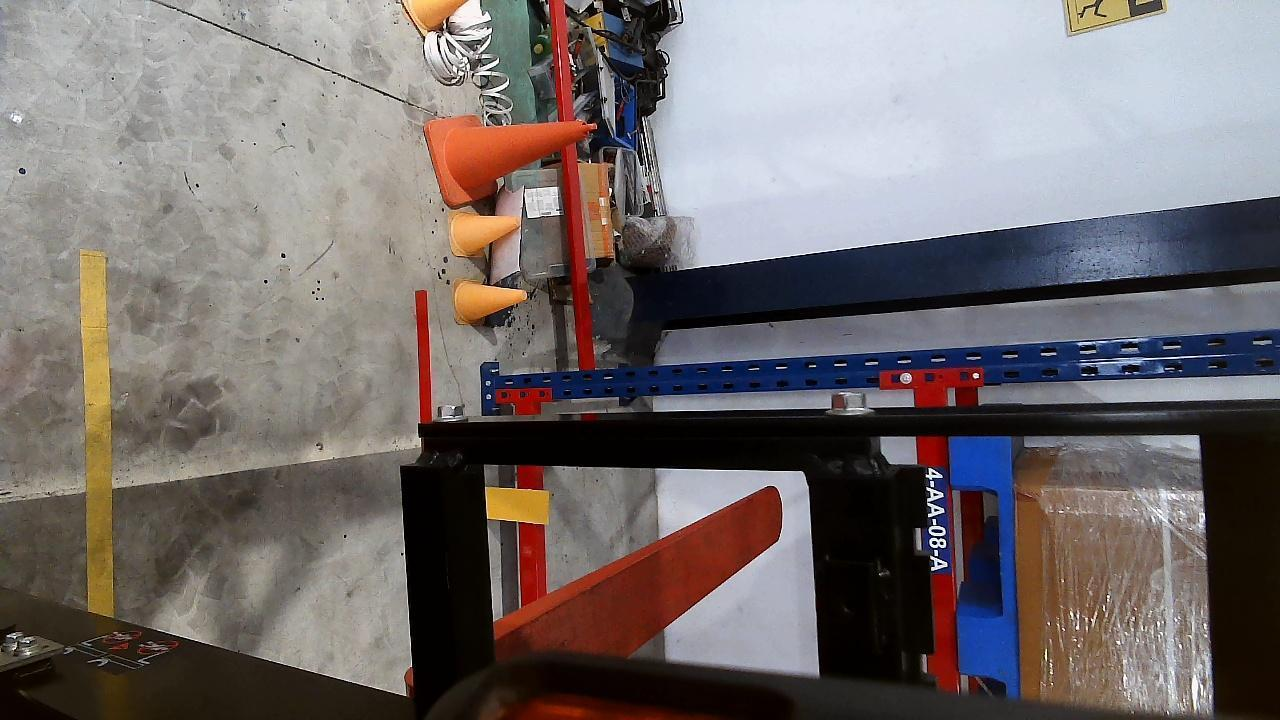red_line: (412, 291, 434, 421)
yellow_line: (79, 249, 113, 616)
